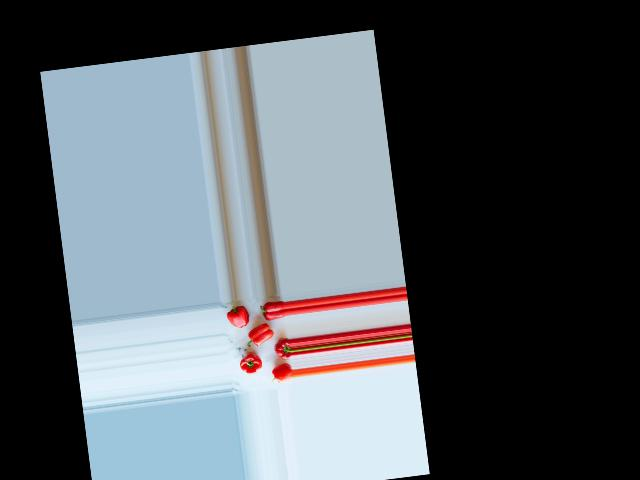bell_pepper: (272, 337, 290, 360)
